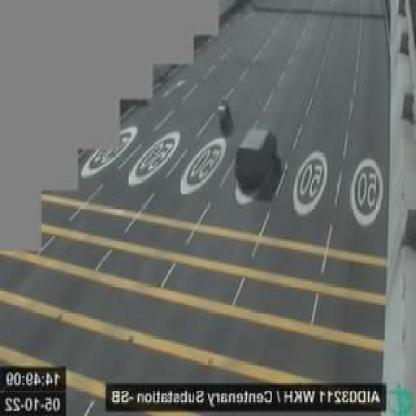Truck: (236, 125, 278, 185)
